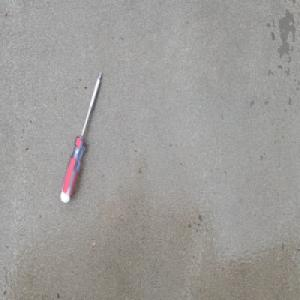Screwdriver: (59, 69, 103, 204)
